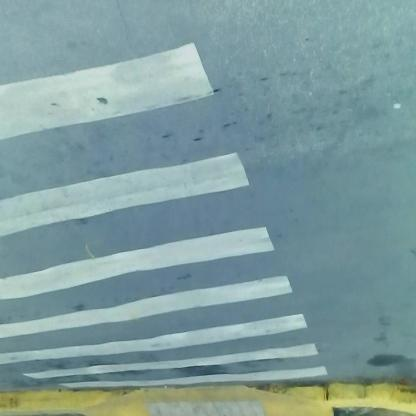crosswalk: (1, 46, 332, 384)
sidewalk: (2, 379, 396, 416)
